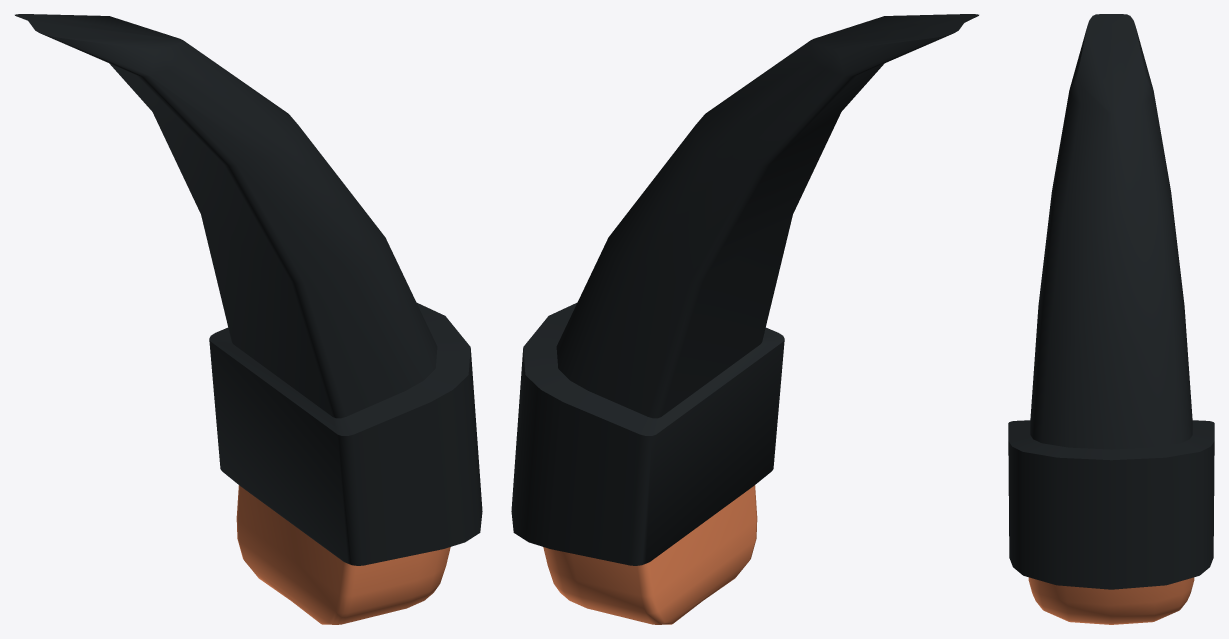
The model's file is character_fishermanArmLeft.obj.
The picture shows the model from 3 angles, left to right: view 1: azimuth 30°, elevation 25°; view 2: azimuth 150°, elevation 25°; view 3: azimuth 270°, elevation 25°; orthographic projection. The views are drawn at different scales.
Parts seen in each view (by area): view 1: character_fishermanArmLeft_Cube.111; view 2: character_fishermanArmLeft_Cube.111; view 3: character_fishermanArmLeft_Cube.111.
Part boxes in pixels (<box>): character_fishermanArmLeft_Cube.111: <box>15,14,482,624</box>; character_fishermanArmLeft_Cube.111: <box>511,14,978,624</box>; character_fishermanArmLeft_Cube.111: <box>1008,14,1214,624</box>.
Size of the model in its own units: 0.3978 by 0.5708 by 0.2215.
